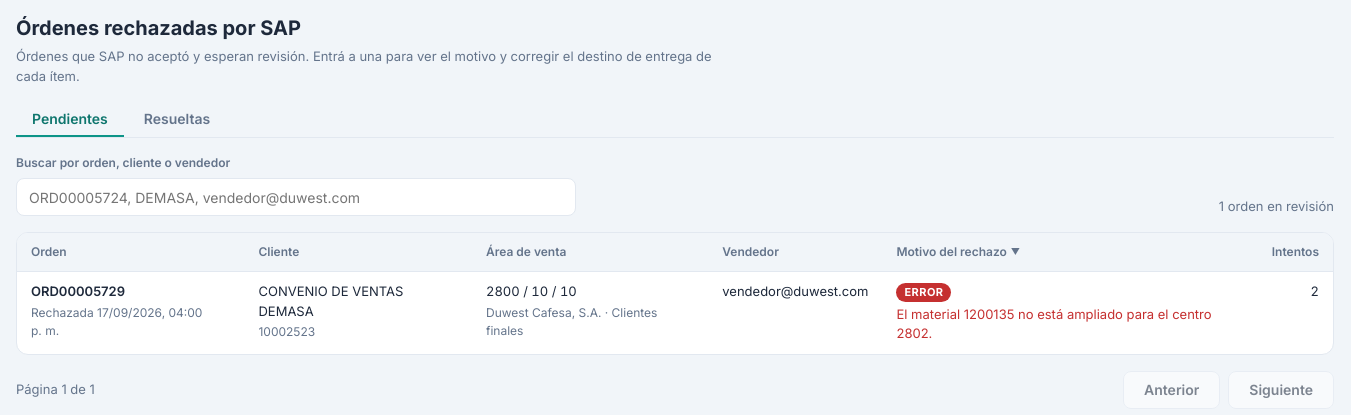
Test: RevisionSapPanel — pendientes y resueltas › las resueltas muestran cómo terminó, quién y cuándo
Expected: the text "ORD00005729" is shown, [31, 283, 125, 299]
Click the tab "Resueltas" at {"x": 177, "y": 120}, box [128, 102, 226, 137]
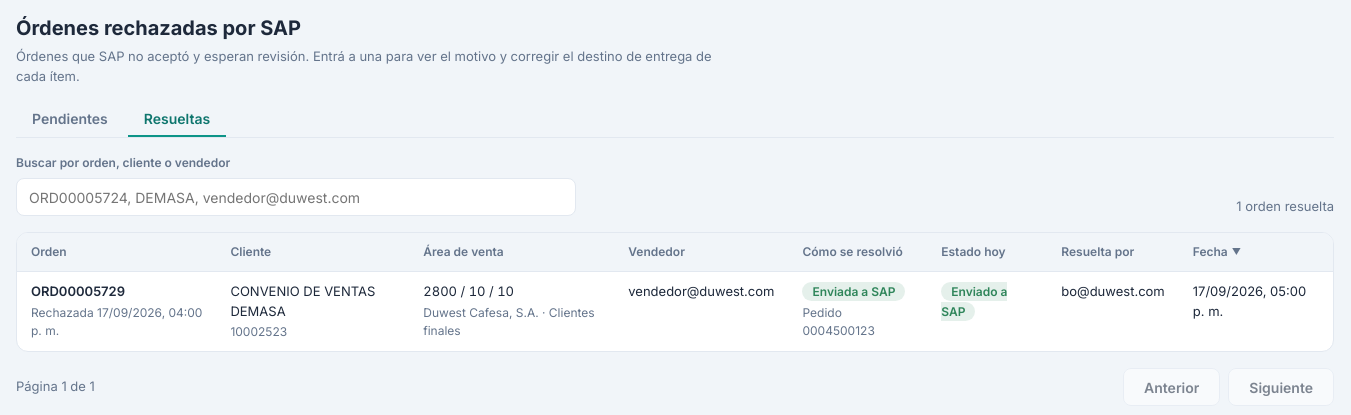
Result: the text "Enviada a SAP" is shown at [802, 282, 906, 301]
Result: the text "Pedido 0004500123" is shown at [802, 304, 875, 338]
Result: the text "Enviado a SAP" is shown at [941, 282, 1008, 320]
